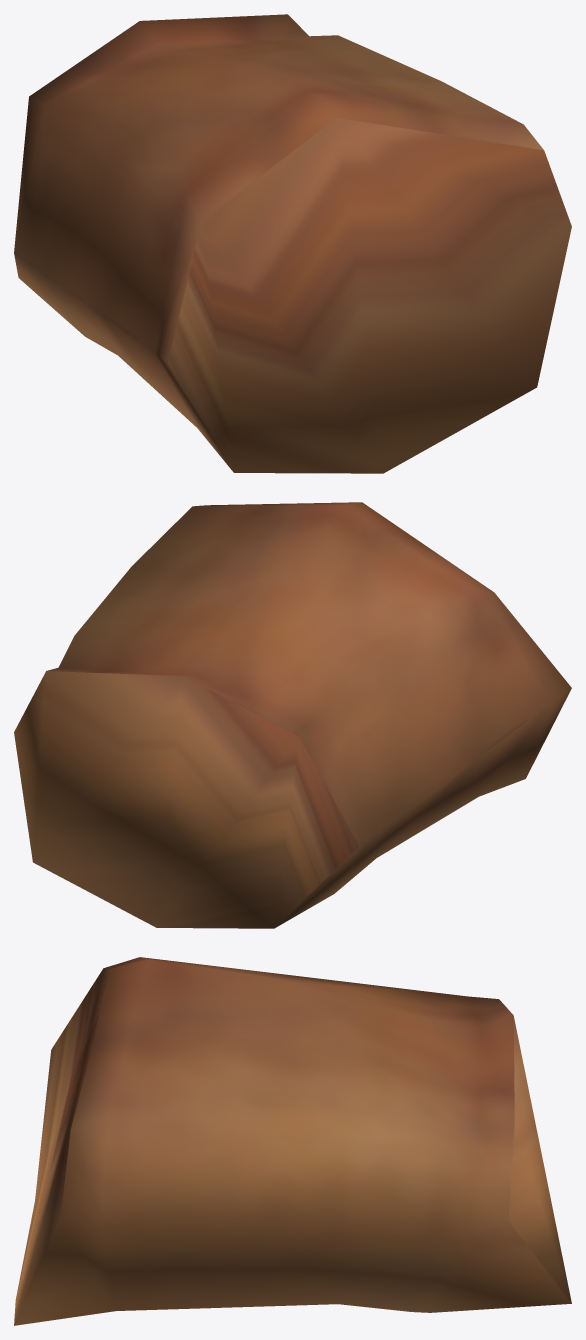
Rendered from pinky_02_l.dae.
The picture shows the model from 3 angles, top to bottom: view 1: azimuth 30°, elevation 25°; view 2: azimuth 150°, elevation 25°; view 3: azimuth 270°, elevation 25°; orthographic projection. The views are drawn at different scales.
Visible parts, largest first — view 1: pinky_2_l; view 2: pinky_2_l; view 3: pinky_2_l.
Part boxes in pixels (bbox=[...]): pinky_2_l: bbox=[14, 14, 571, 473]; pinky_2_l: bbox=[14, 502, 571, 928]; pinky_2_l: bbox=[14, 957, 571, 1325].
Bounding box in the file's own units: 0.0201 × 0.0231 × 0.0155.
1 material, 1 textured.
